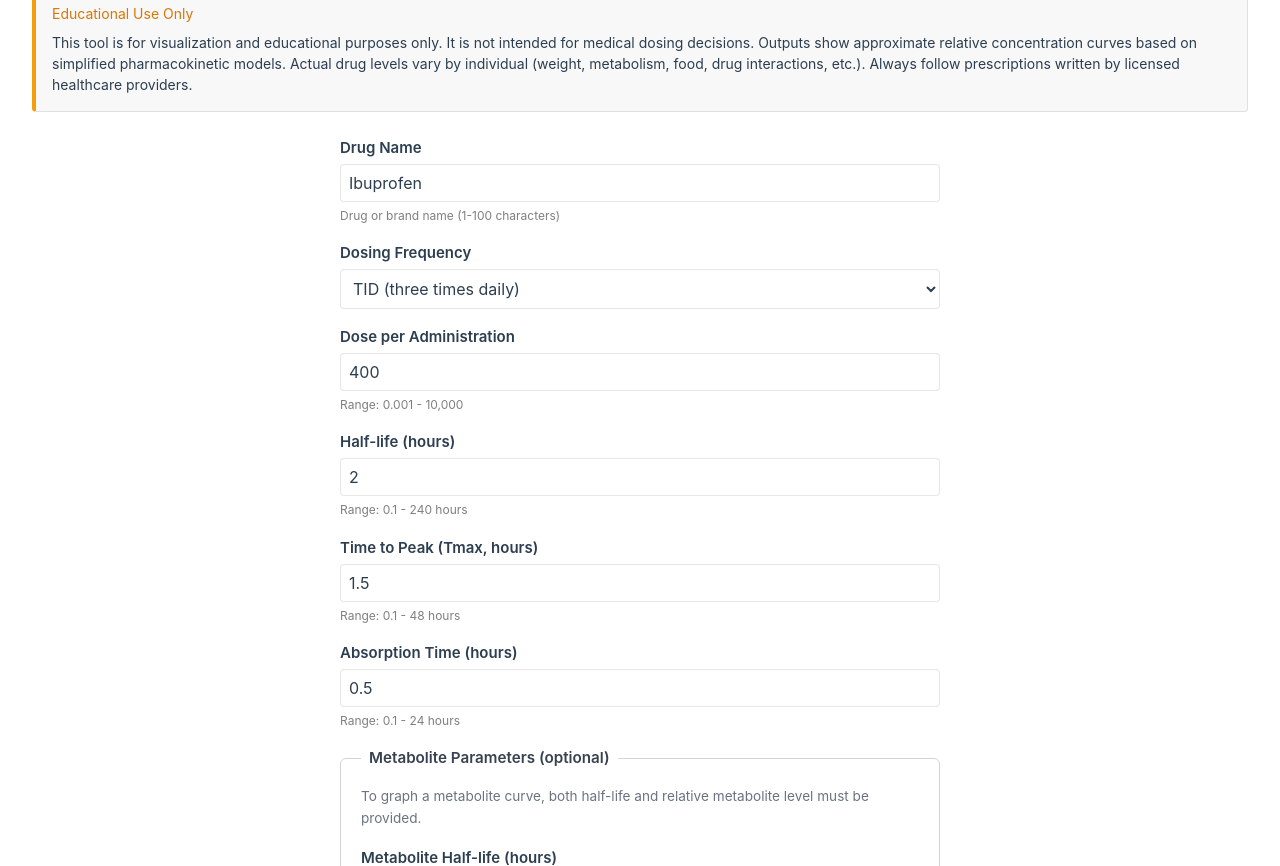
PrescriptionForm › frequency-times reactivity › resets times to defaults when frequency changes from tid to bid
The image size is (1280, 866).
// tid has 3 times: ['08:00', '14:00', '20:00']
Select "BID (twice daily)" in the dropdown with id "rx-frequency" at [640, 289], box [340, 269, 940, 309]
(page scrolled)
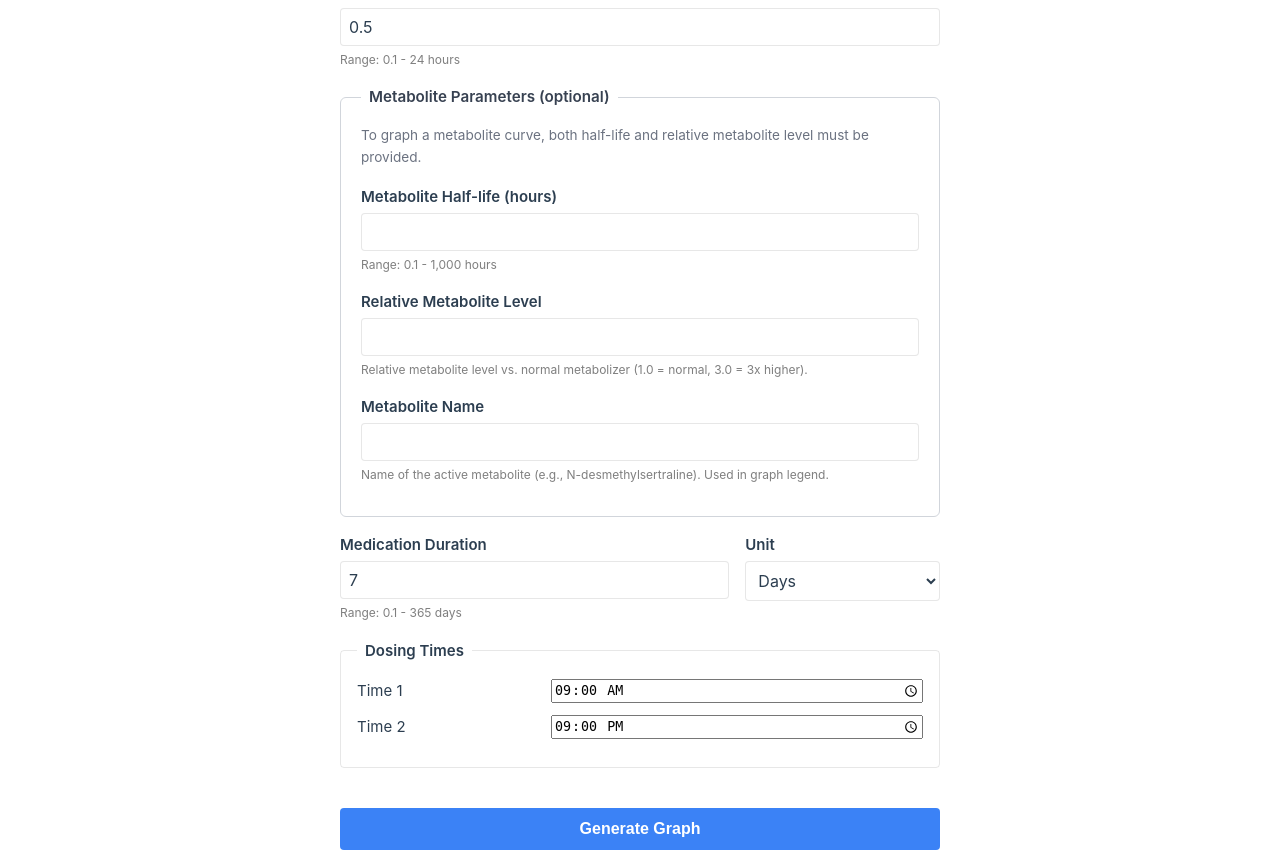
Now the number of time fields is 2, box [551, 678, 923, 702]; [551, 714, 923, 738]
Now the time field labelled "Time 1" holds "09:00", box [551, 678, 923, 702]
Now the time field labelled "Time 2" holds "21:00", box [551, 714, 923, 738]
